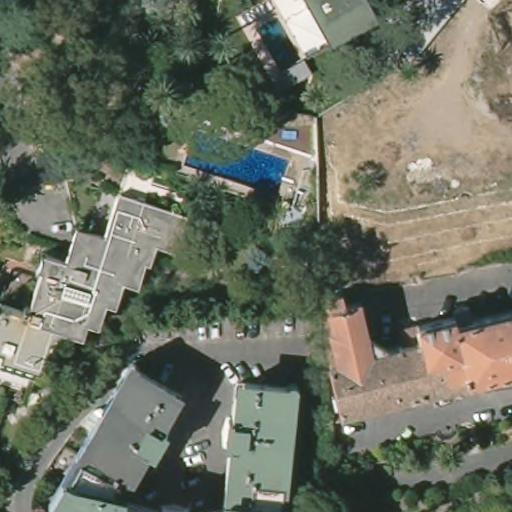pool: (178, 129, 291, 191), (250, 11, 296, 60)
